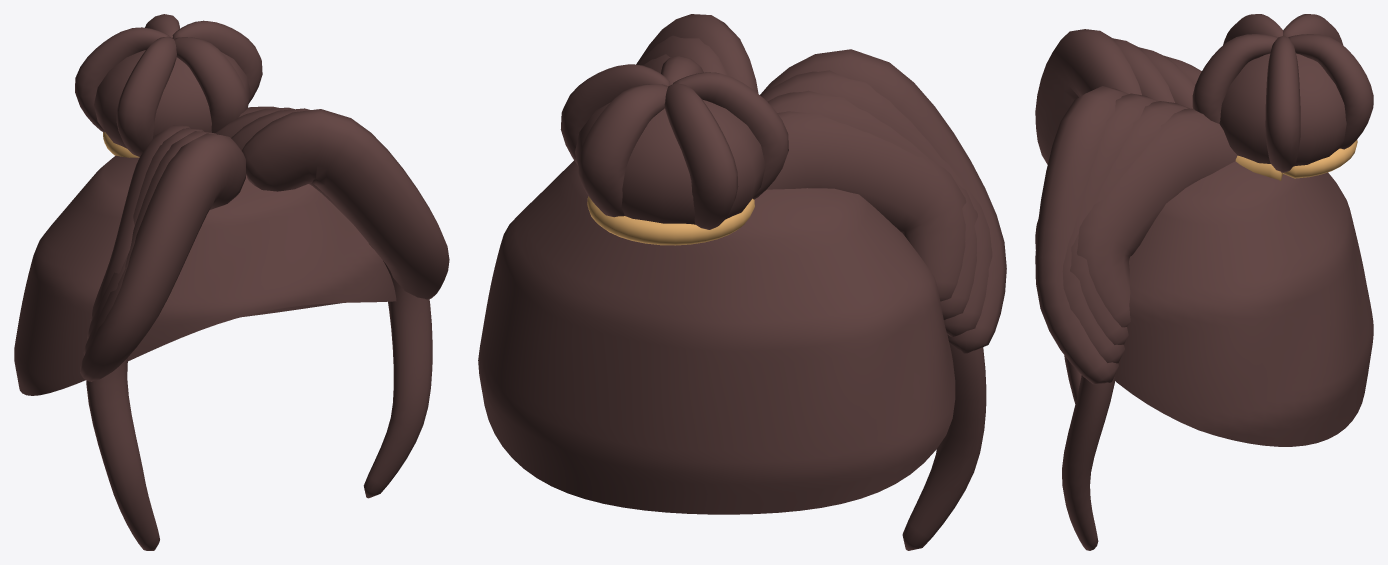
File: studio_bun_default.glb
The picture shows the model from 3 angles, left to right: view 1: azimuth 30°, elevation 25°; view 2: azimuth 150°, elevation 25°; view 3: azimuth 270°, elevation 25°; orthographic projection. The views are drawn at different scales.
Parts seen in each view (by area): view 1: bun; view 2: bun; view 3: bun.
Part boxes in pixels (bbox=[...]): bun: bbox=[14, 14, 449, 550]; bun: bbox=[478, 14, 1006, 550]; bun: bbox=[1035, 14, 1373, 550].
Bounding box in the file's own units: 0.4952 × 0.5631 × 0.3712.
